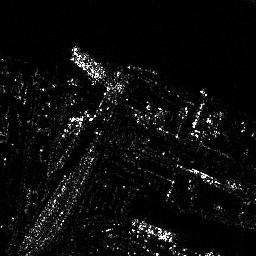ship: (71, 45, 109, 77)
